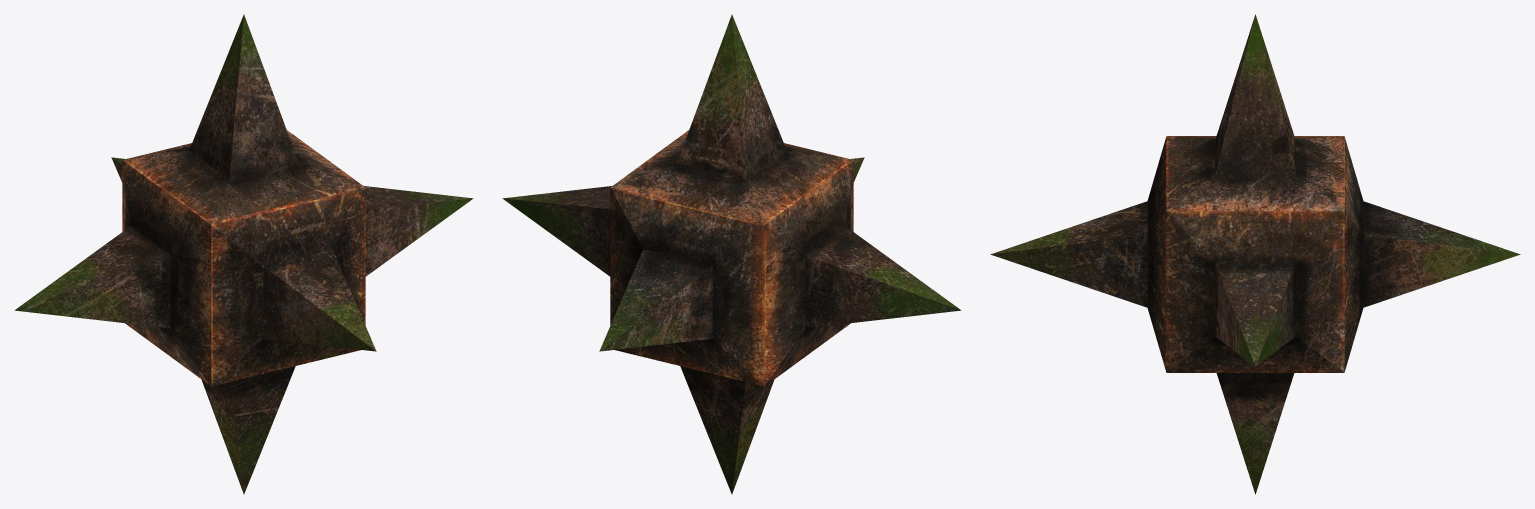
Rendered from PincheOxidado2.fbx.
The picture shows the model from 3 angles, left to right: view 1: azimuth 30°, elevation 25°; view 2: azimuth 150°, elevation 25°; view 3: azimuth 270°, elevation 25°; orthographic projection.
Parts seen in each view (by area): view 1: Pincho; view 2: Pincho; view 3: Pincho.
Boxes of the visible parts, x1,y1,x2,y2 form: Pincho: (14, 14, 473, 494); Pincho: (502, 14, 961, 494); Pincho: (990, 14, 1520, 494).
Size of the model in its own units: 839 by 839 by 839.
1 material, 1 textured.
